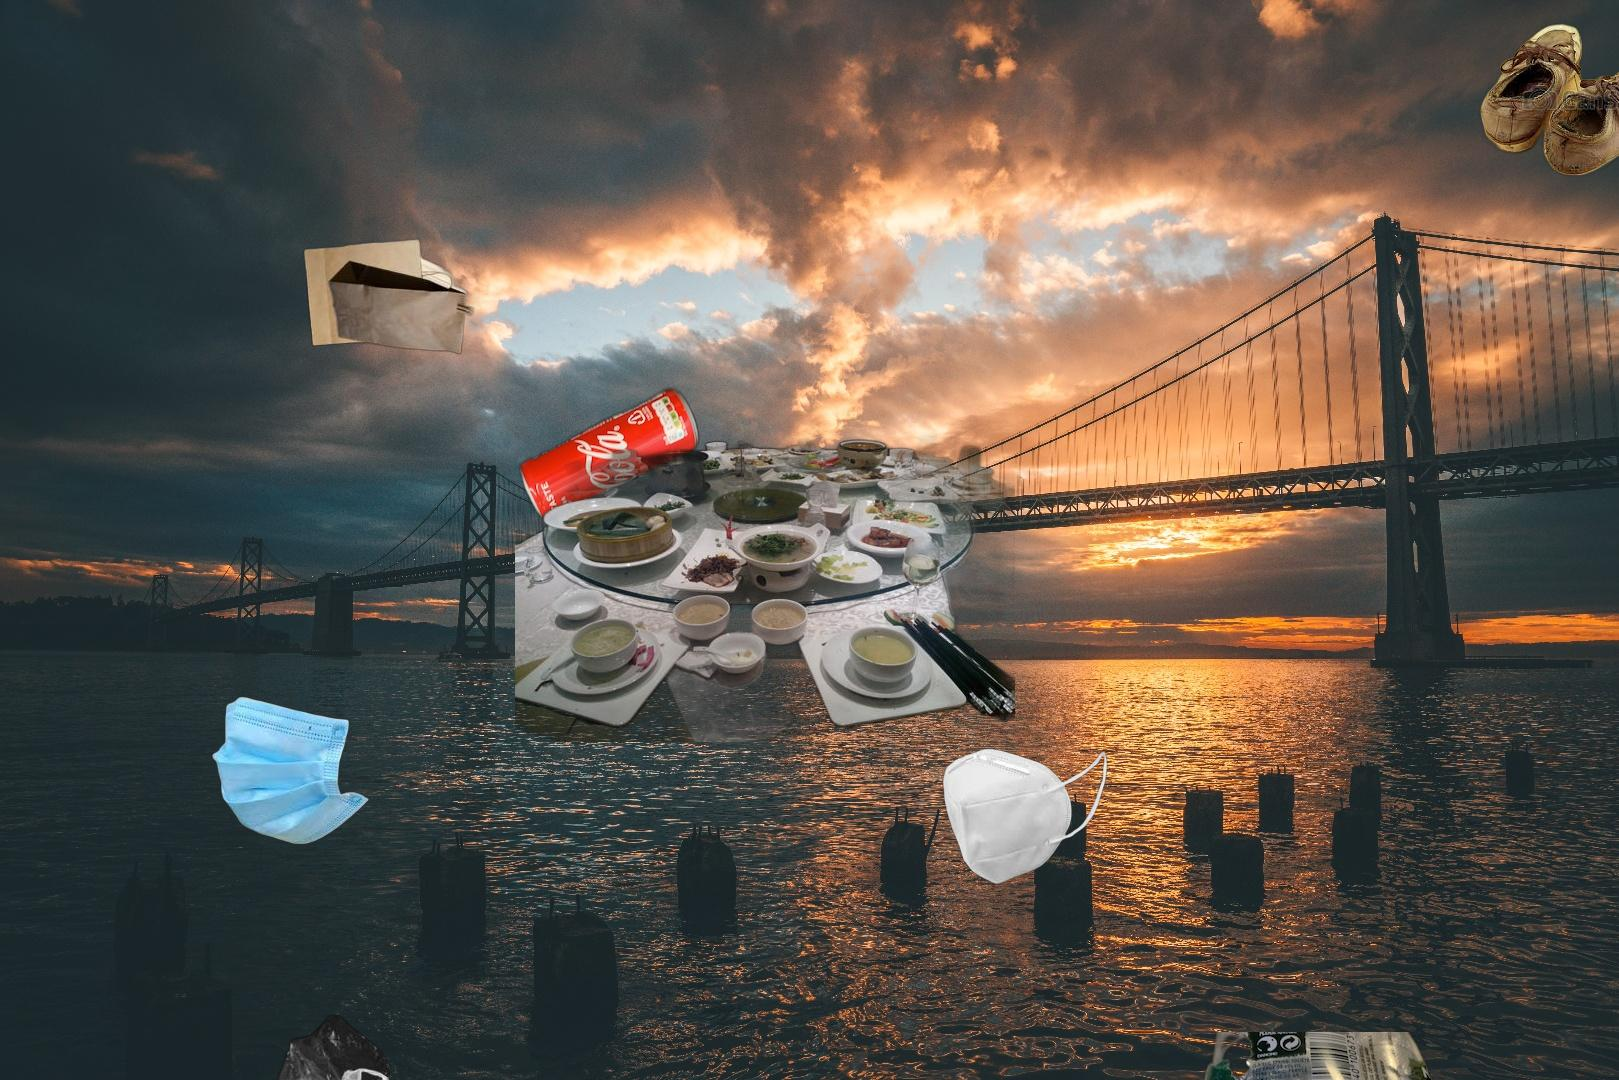biological: (515, 372, 1015, 742)
metal-cans: (515, 382, 737, 944)
paper-bag: (303, 237, 483, 356)
plastic-bag: (256, 1012, 467, 1080)
plastic-bottles: (1138, 1032, 1523, 1080)
shoes: (1478, 20, 1619, 181)
trash: (209, 694, 373, 847), (940, 746, 1110, 887)
